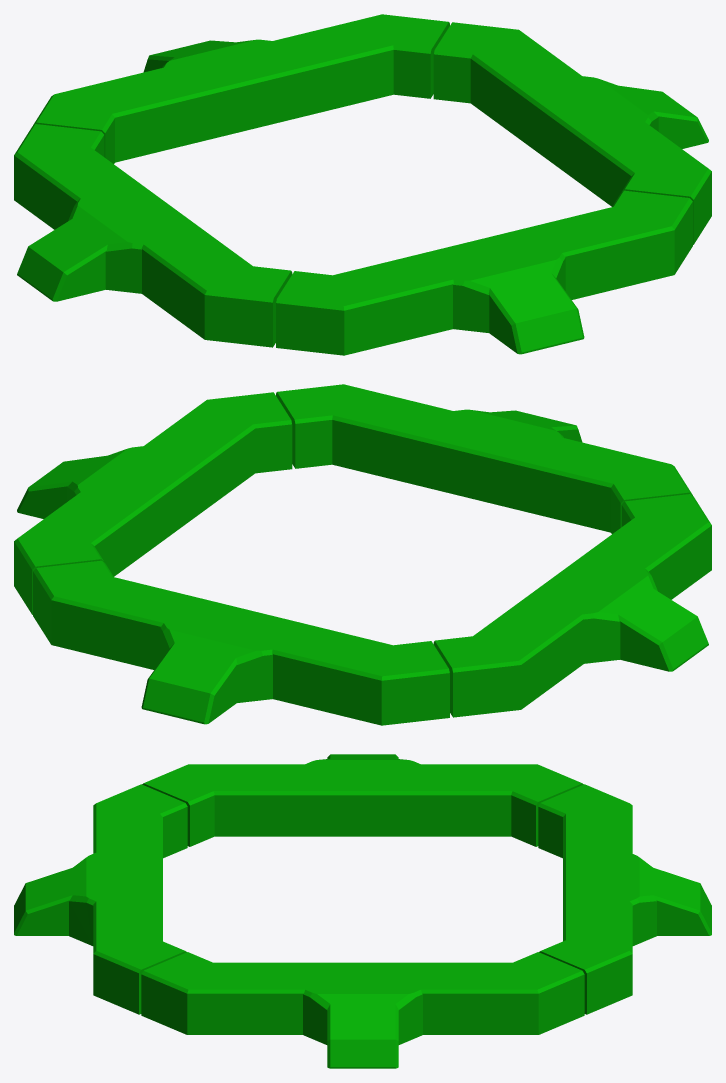
File: lid_cover_green.dae
3 renders of one model, top to bottom at view 1: azimuth 30°, elevation 25°; view 2: azimuth 150°, elevation 25°; view 3: azimuth 270°, elevation 25°, orthographic. The views are drawn at different scales.
Visible parts, largest first — view 1: PlasticLidCover_Green; view 2: PlasticLidCover_Green; view 3: PlasticLidCover_Green.
Part boxes in pixels (x1,y1,x2,y2): PlasticLidCover_Green: [14, 14, 711, 355]; PlasticLidCover_Green: [14, 384, 711, 725]; PlasticLidCover_Green: [14, 754, 711, 1068].
Size of the model in its own units: 0.2294 by 0.2294 by 0.016.
